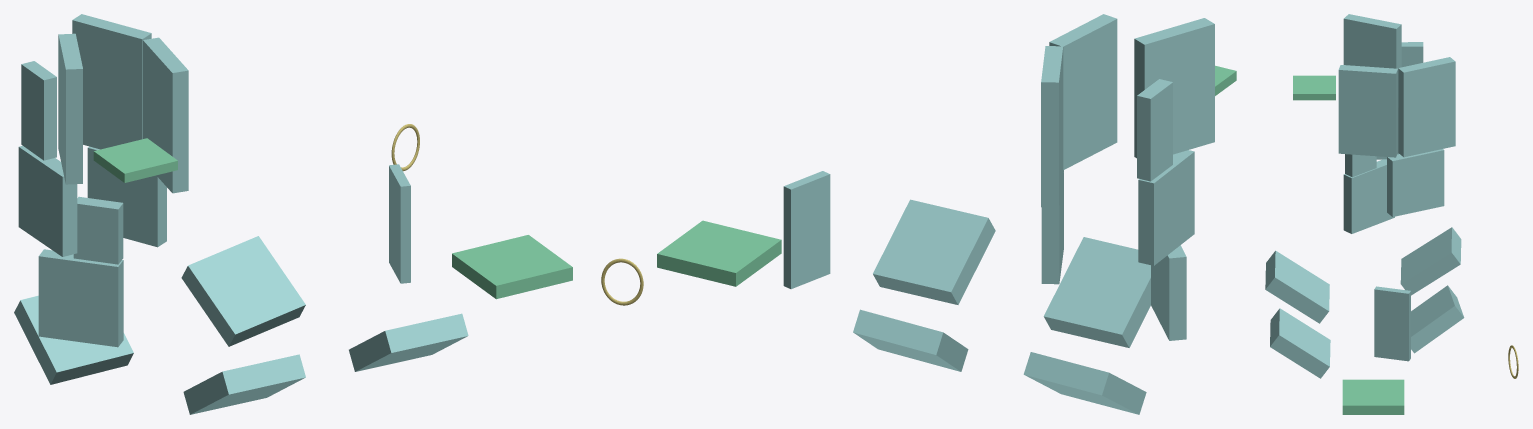
File: scene_jump8_2.dae
3 renders of one model, left to right at view 1: azimuth 30°, elevation 25°; view 2: azimuth 150°, elevation 25°; view 3: azimuth 270°, elevation 25°, orthographic. The views are drawn at different scales.
Visible parts, largest first — view 1: Cube_002, Cube_011, Cube_005, Cube_007, Cube_006, Cube_003, Cube_008, Cube_004, Cube_001, Cube, Cube_009, Cube_012 (+3 smaller); view 2: Cube, Cube_001, Cube_009, Cube_007, Cube_003, Cube_015, Cube_006, Cube_008, Cube_002, Cube_011, Cube_012, Cube_005 (+1 smaller); view 3: Cube_007, Cube_011, Cube_004, Cube_009, Cube_001, Cube_015, Cube_005, Cube, Cube_008, Cube_003, Cube_002, Cube_010 (+2 smaller).
Boxes of the visible parts, <box> form: Cube_002: <box>181,236,305,346</box>; Cube_011: <box>72,14,151,149</box>; Cube_005: <box>38,249,123,347</box>; Cube_007: <box>143,37,188,193</box>; Cube_006: <box>18,145,77,256</box>; Cube_003: <box>452,235,572,299</box>; Cube_008: <box>14,295,133,384</box>; Cube_004: <box>87,146,166,247</box>; Cube_001: <box>183,354,305,414</box>; Cube: <box>349,313,468,371</box>; Cube_009: <box>58,33,82,184</box>; Cube_012: <box>21,61,56,160</box>; Cube: <box>873,199,995,304</box>; Cube_001: <box>1043,237,1150,347</box>; Cube_009: <box>1134,18,1214,158</box>; Cube_007: <box>1049,14,1117,169</box>; Cube_003: <box>657,220,781,286</box>; Cube_015: <box>783,171,830,289</box>; Cube_006: <box>1138,150,1194,265</box>; Cube_008: <box>1023,352,1146,414</box>; Cube_002: <box>853,309,968,371</box>; Cube_011: <box>1041,46,1063,207</box>; Cube_012: <box>1137,79,1172,181</box>; Cube_005: <box>1151,245,1186,340</box>; Cube_007: <box>1338,65,1397,157</box>; Cube_011: <box>1398,57,1455,157</box>; Cube_004: <box>1387,149,1444,216</box>; Cube_009: <box>1343,14,1401,107</box>; Cube_001: <box>1265,250,1329,323</box>; Cube_015: <box>1374,286,1410,361</box>; Cube_005: <box>1343,159,1394,233</box>; Cube: <box>1270,308,1330,378</box>; Cube_008: <box>1400,227,1461,295</box>; Cube_003: <box>1342,379,1404,414</box>; Cube_002: <box>1411,285,1464,353</box>; Cube_010: <box>1293,75,1335,100</box>.
Size of the model in its own units: 13.1 by 8.21 by 8.91.
